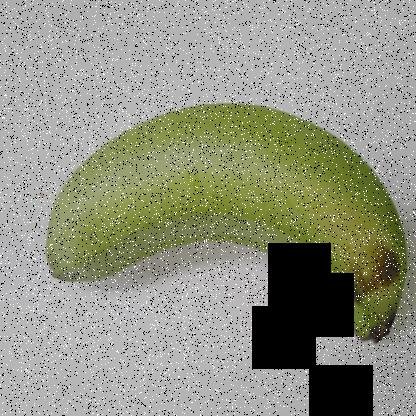freshunripe: (28, 70, 416, 360)
